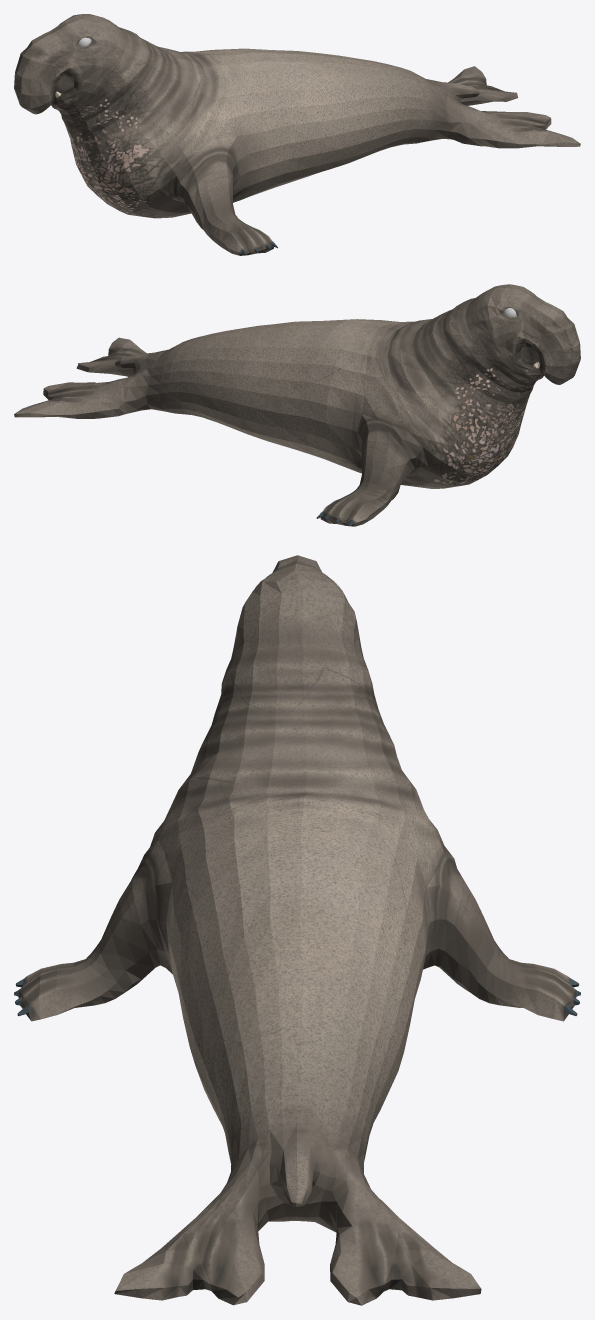
Rendered from 9KEI4F7Q7XFUSO91A1J0PZL1S.fbx.
3 views of the same model, one above another, from view 1: azimuth 30°, elevation 25°; view 2: azimuth 150°, elevation 25°; view 3: azimuth 270°, elevation 25° (orthographic). The views are drawn at different scales.
Visible parts, largest first — view 1: Object_Material.001_3, Object_Material.001_4; view 2: Object_Material.001_3, Object_Material.001_4; view 3: Object_Material.001_3, Object_Material.001_4.
Part boxes in pixels (left/top/right/bottom): Object_Material.001_3: left=14, top=14, right=580, bottom=255; Object_Material.001_4: left=30, top=22, right=580, bottom=251; Object_Material.001_3: left=14, top=284, right=580, bottom=526; Object_Material.001_4: left=15, top=284, right=555, bottom=518; Object_Material.001_3: left=14, top=555, right=580, bottom=1305; Object_Material.001_4: left=19, top=578, right=580, bottom=1297.
Size of the model in its own units: 2.5 by 0.9498 by 1.37.
